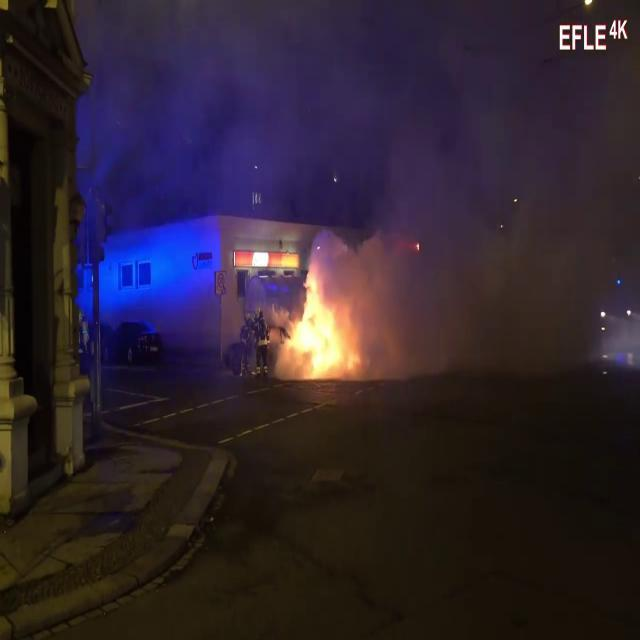Fire: (279, 264, 359, 376)
Smoke: (322, 3, 630, 380)
